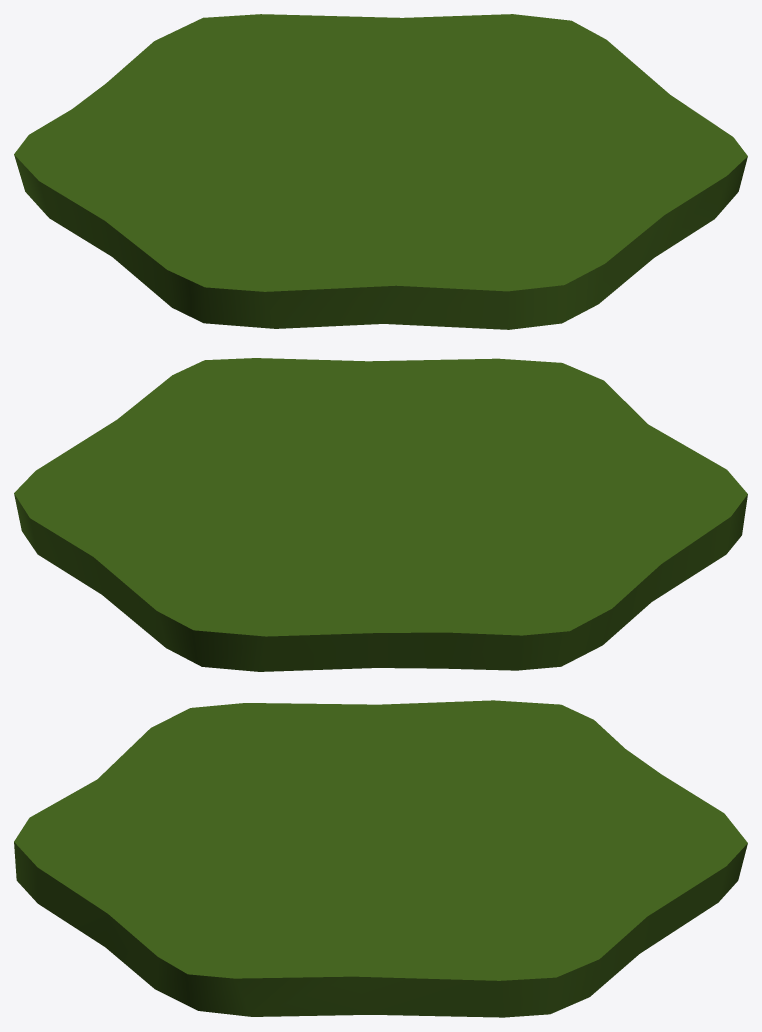
File: Forest_RoadBase00.fbx
3 renders of one model, top to bottom at view 1: azimuth 30°, elevation 25°; view 2: azimuth 150°, elevation 25°; view 3: azimuth 270°, elevation 25°, orthographic.
Visible parts, largest first — view 1: BaseTile_Grass_Forest; view 2: BaseTile_Grass_Forest; view 3: BaseTile_Grass_Forest.
Boxes of the visible parts, bbox=[...] form: BaseTile_Grass_Forest: bbox=[14, 14, 747, 329]; BaseTile_Grass_Forest: bbox=[14, 358, 747, 671]; BaseTile_Grass_Forest: bbox=[14, 700, 747, 1017].
Size of the model in its own units: 0.9239 by 0.0619 by 1.02.
